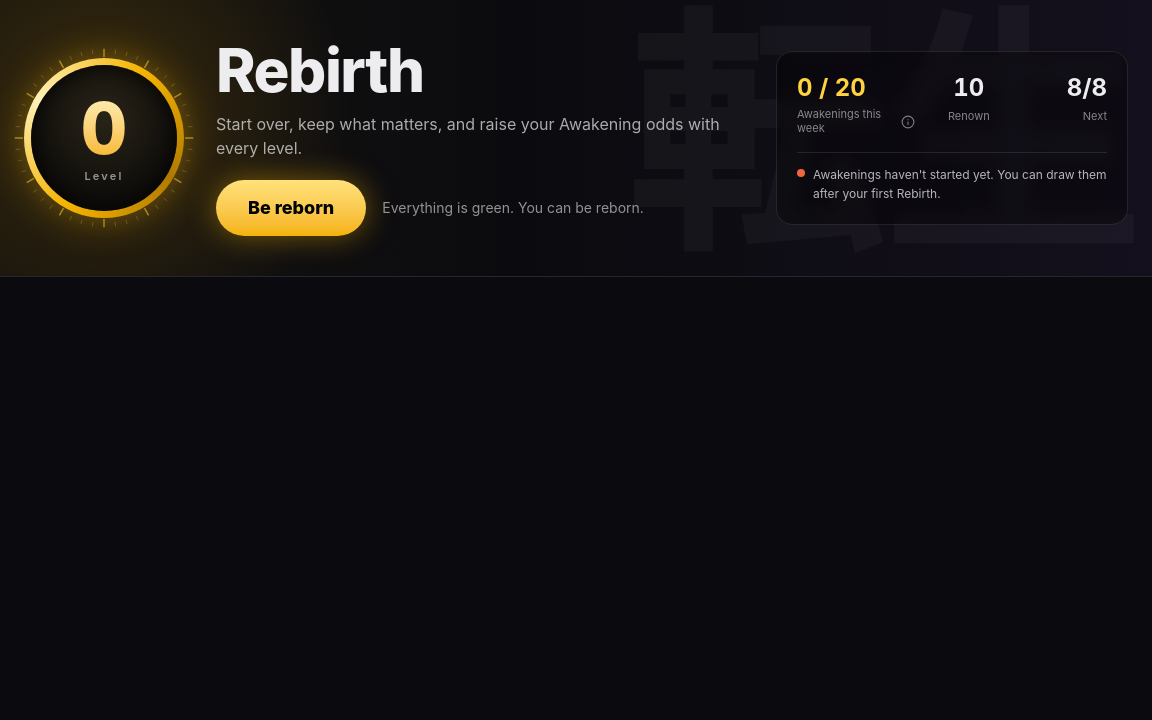
Test: RebirthFlow › shows an error and stays closable when the action throws
The image size is (1152, 720).
Click the button "Be reborn": (291, 208) [216,180,366,236]
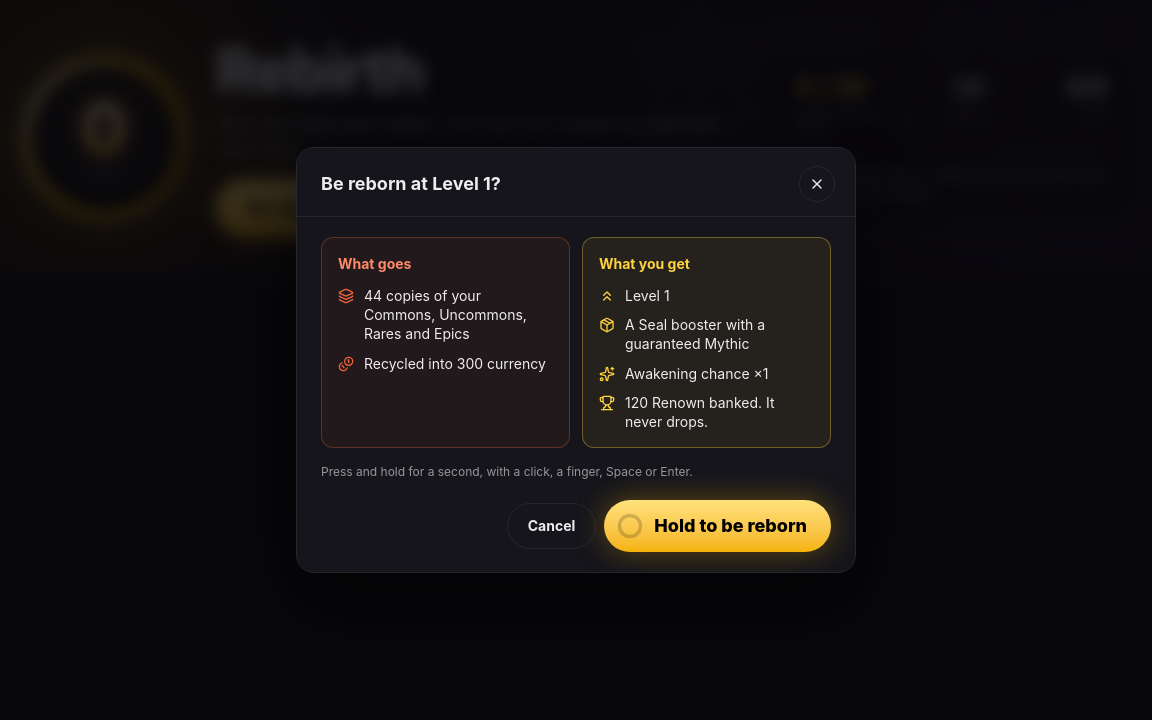
Press the mouse on the button "Hold to be reborn": (718, 526) [604,500,831,552]
Wait 1250 ms
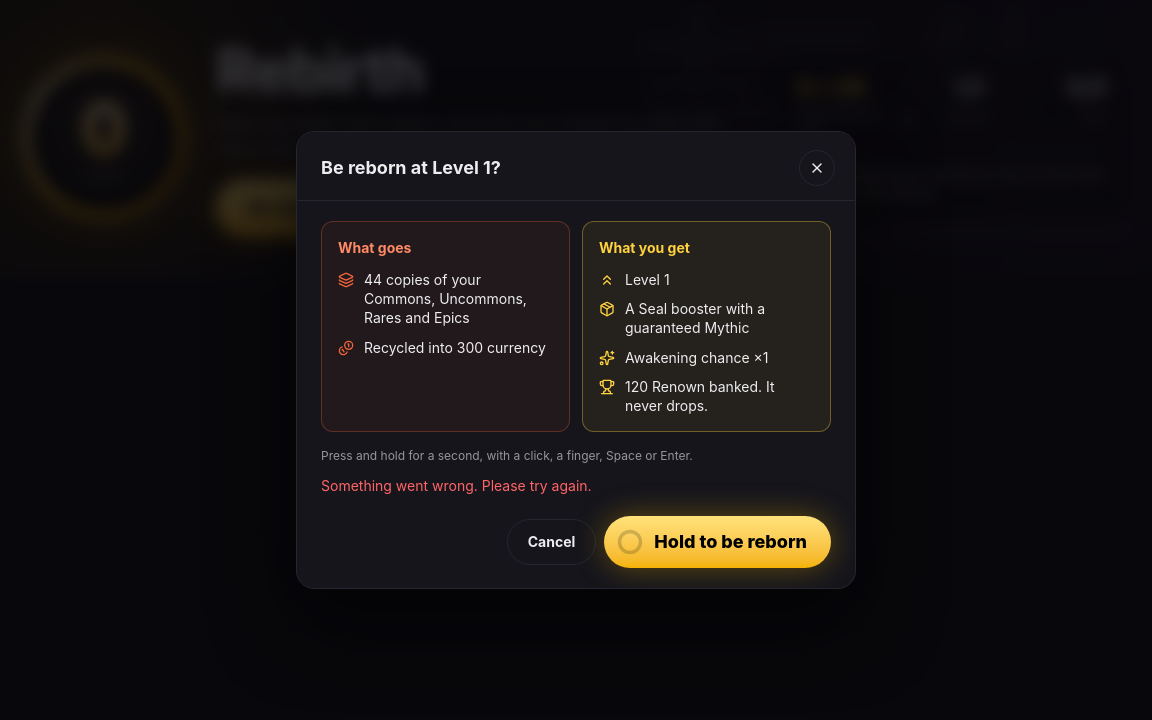
Result: the button "Cancel" is enabled
Result: the message reads "Something went wrong. Please try again." at [321,477,592,494]
Click the button "Cancel": (552, 542) [507,519,596,565]
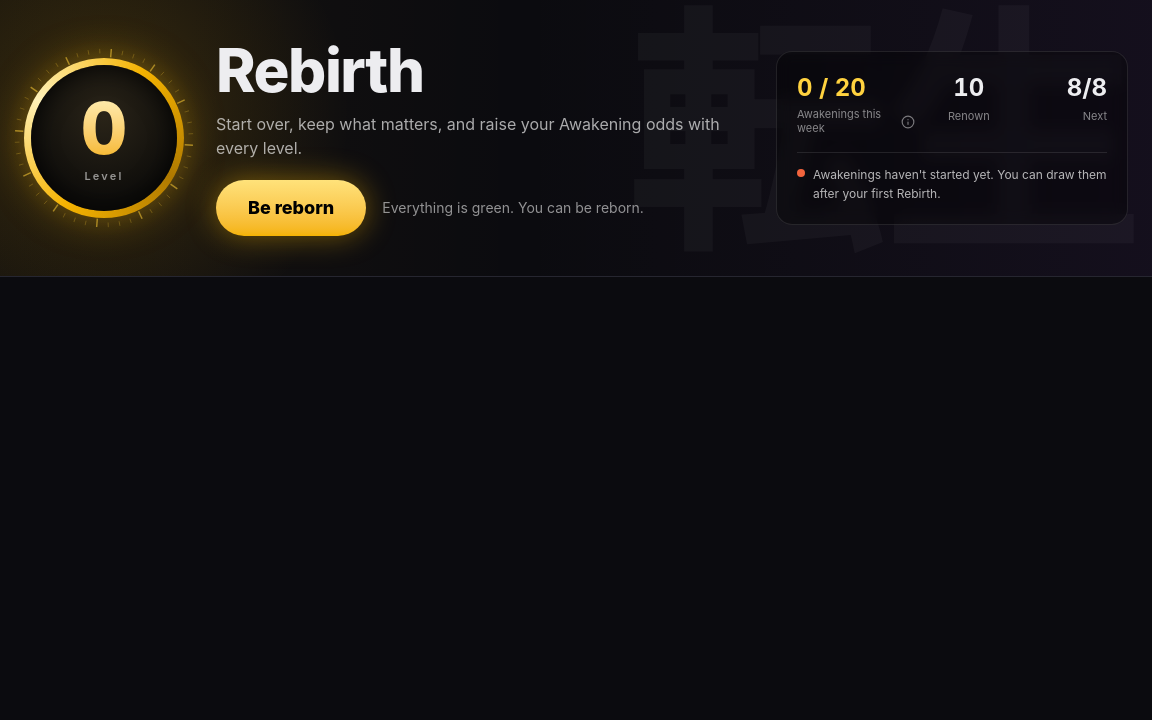
Result: the dialog is gone
